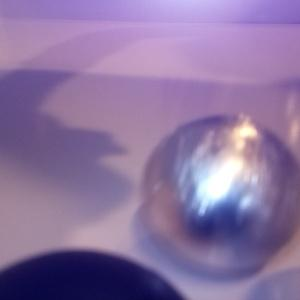alive_ball: (143, 115, 300, 272)
dead_ball: (1, 250, 190, 300)
